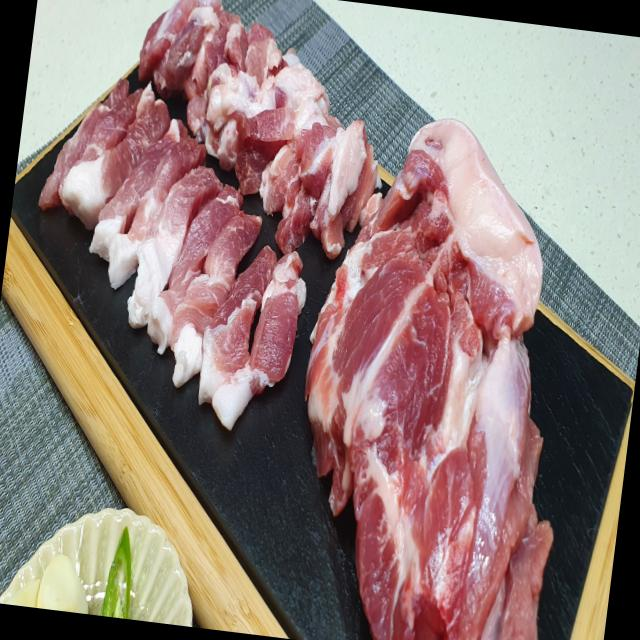pork: (271, 98, 606, 640), (9, 0, 350, 439)
